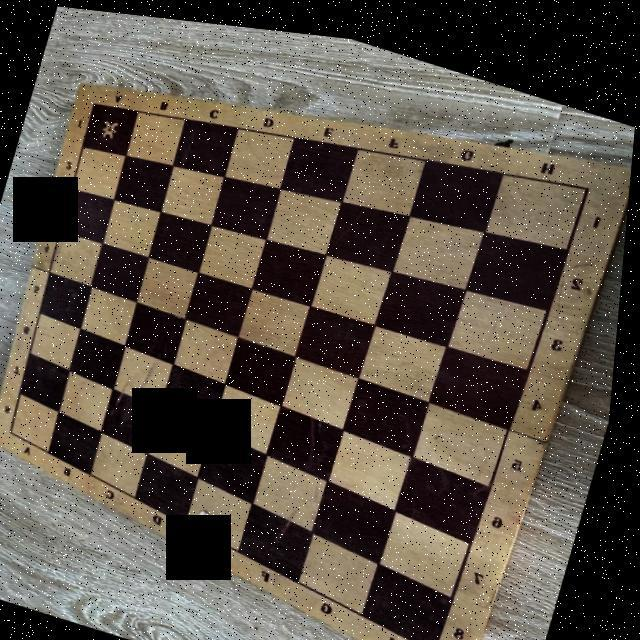chess-table-corners: (572, 159, 604, 188), (85, 92, 105, 111), (432, 629, 456, 640), (9, 424, 26, 438)
